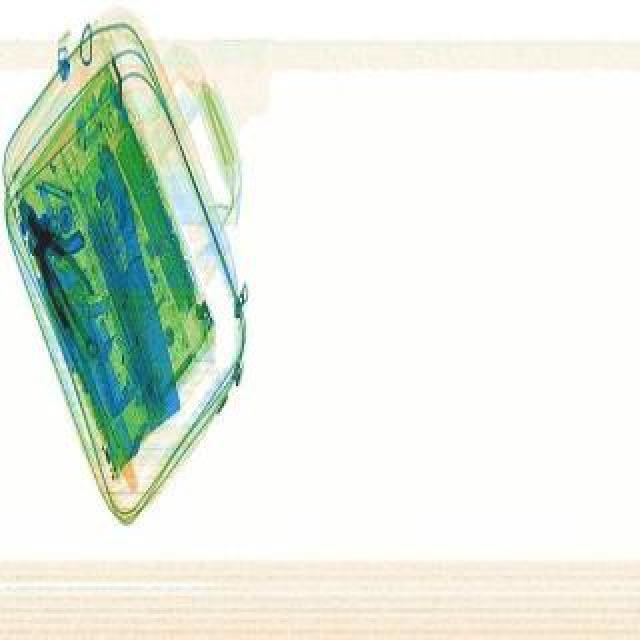gun: (6, 180, 90, 268)
knife: (72, 140, 184, 428)
wrench: (2, 198, 102, 318)
